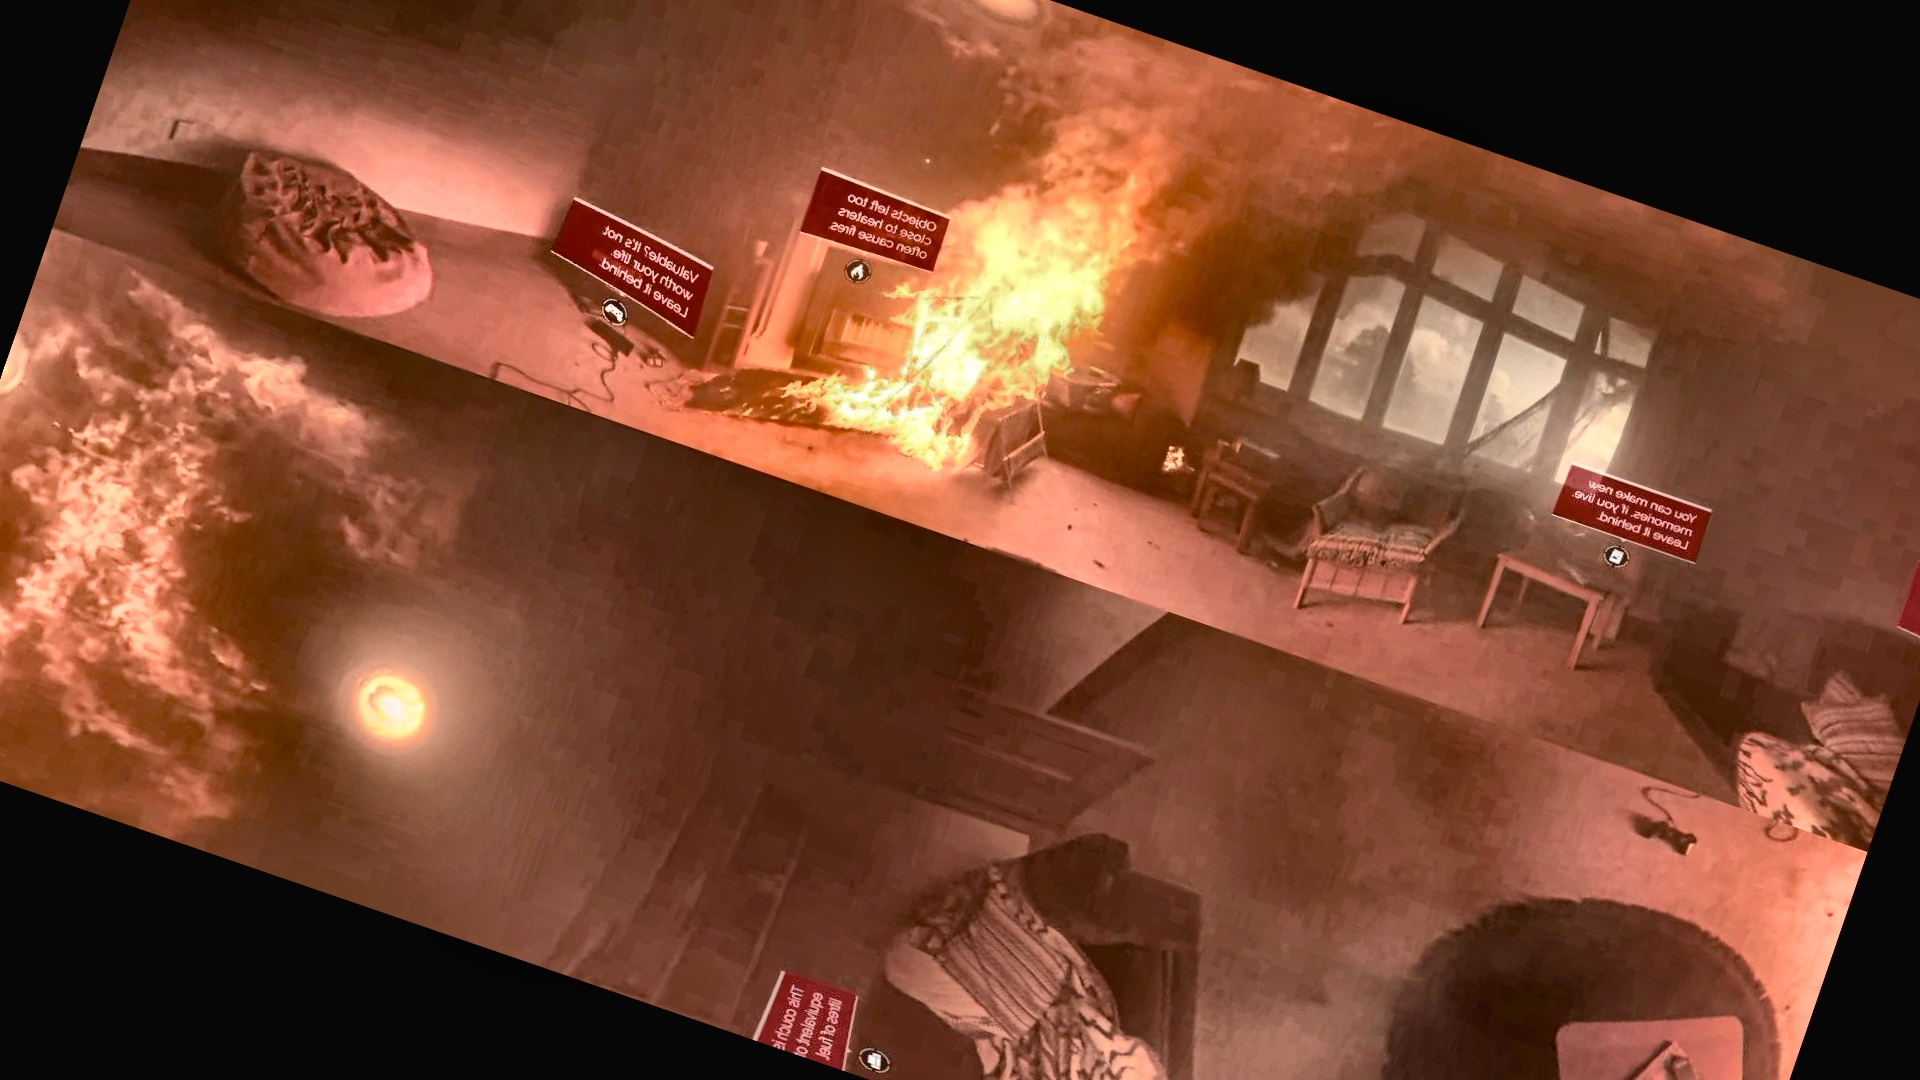fire: (814, 0, 1257, 517)
